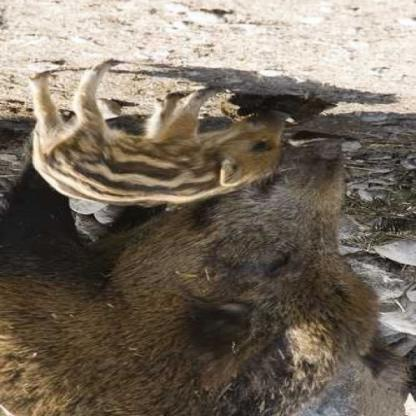boar: (2, 93, 415, 411), (35, 65, 307, 245)
